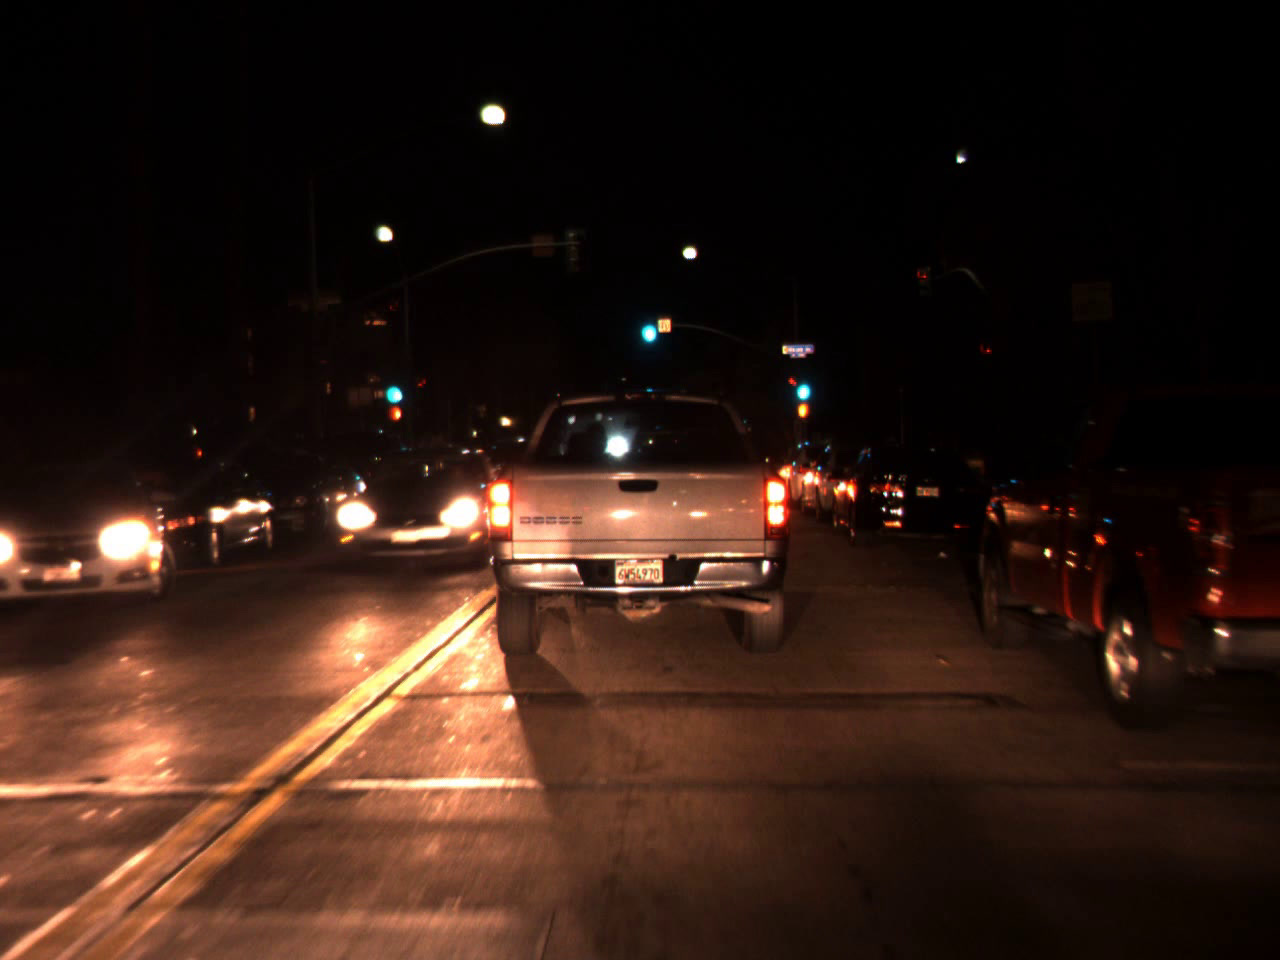go: (635, 303, 660, 348), (792, 362, 813, 407), (382, 367, 403, 409)
